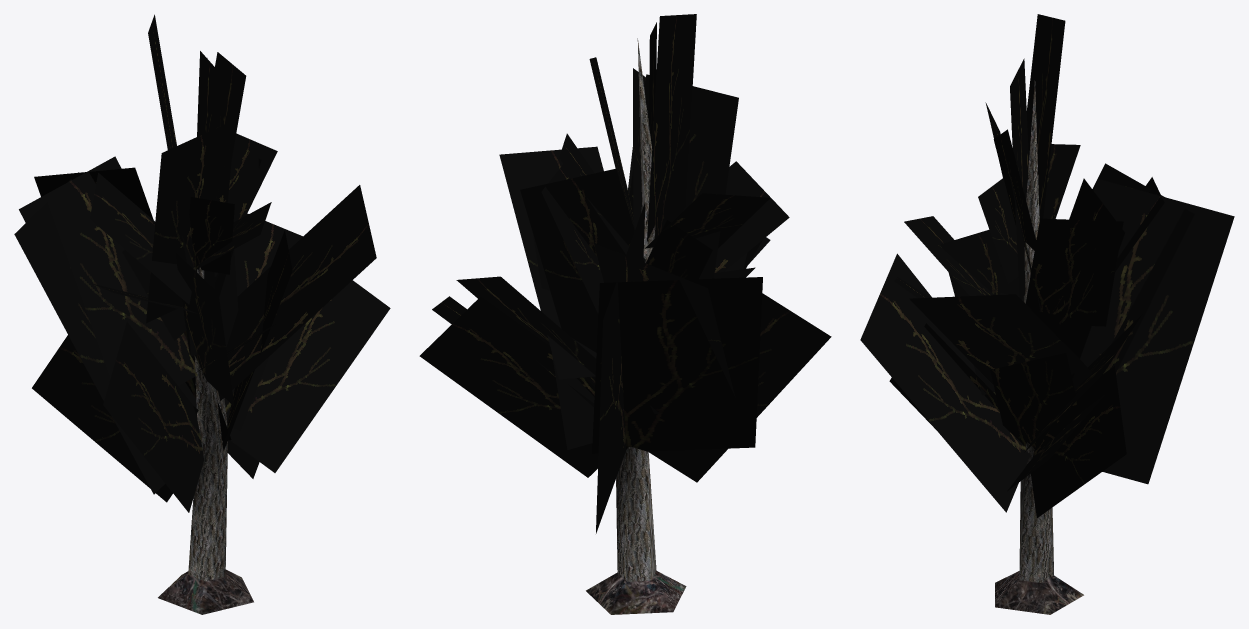
File: tree_A.glb
3 views of the same model, side by side, from view 1: azimuth 30°, elevation 25°; view 2: azimuth 150°, elevation 25°; view 3: azimuth 270°, elevation 25° (orthographic). The views are drawn at different scales.
Parts seen in each view (by area): view 1: Tree; view 2: Tree; view 3: Tree.
Boxes of the visible parts, <box> form: Tree: <box>14,14,390,614</box>; Tree: <box>419,14,831,614</box>; Tree: <box>860,14,1234,614</box>.
Size of the model in its own units: 5.48 by 8.71 by 5.3.
3 materials, 3 textured.
